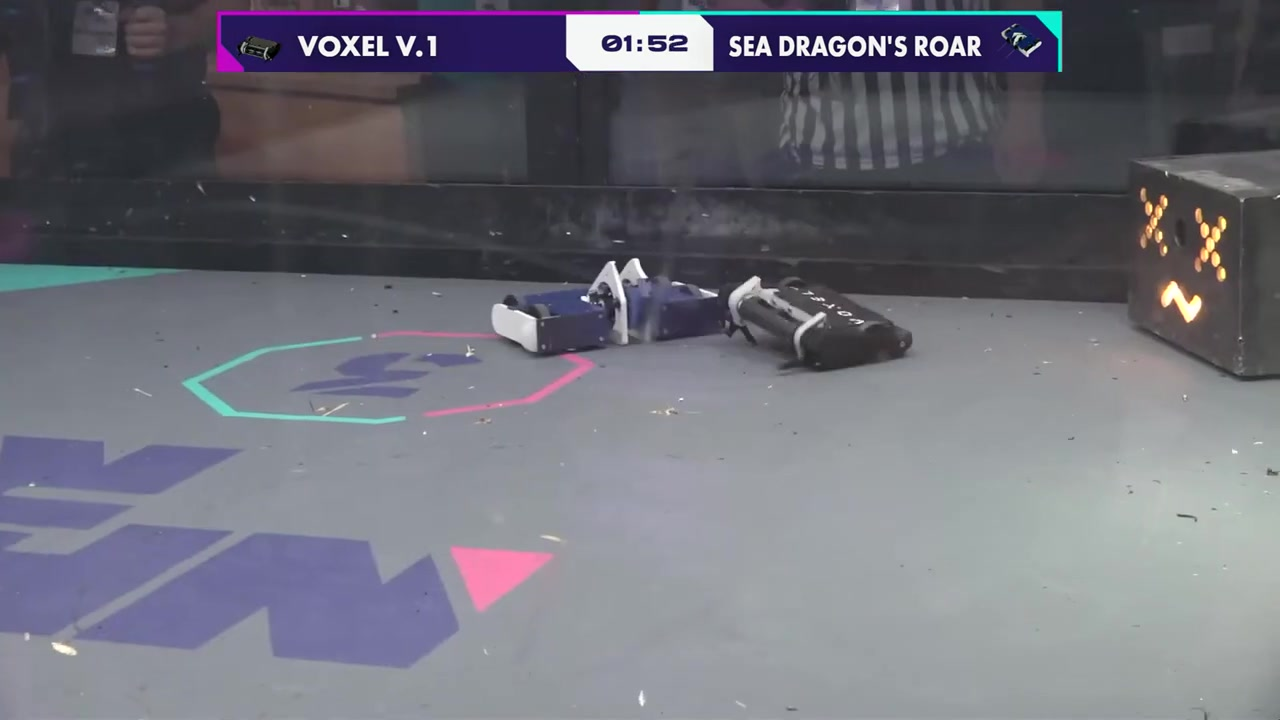combatbot: (490, 257, 725, 356), (725, 277, 915, 374)
housebot: (1128, 148, 1280, 381)
